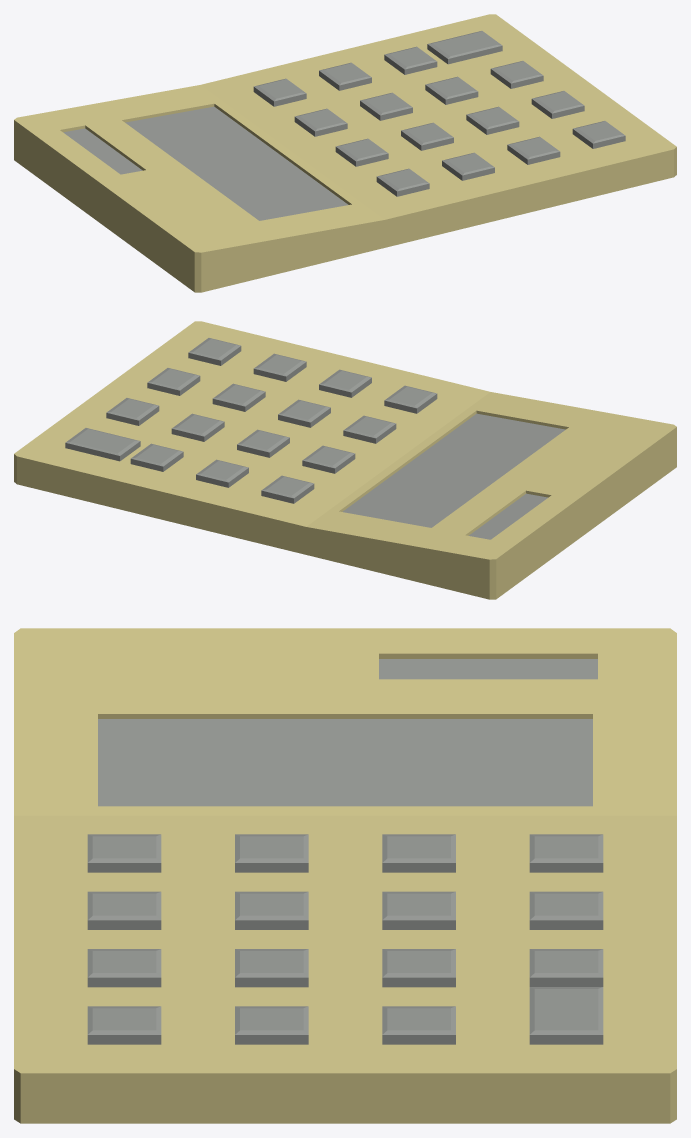
The model's file is calcu_ud.fbx.
The picture shows the model from 3 angles, top to bottom: view 1: azimuth 30°, elevation 25°; view 2: azimuth 150°, elevation 25°; view 3: azimuth 270°, elevation 25°; orthographic projection. The views are drawn at different scales.
Visible parts, largest first — view 1: Cube; view 2: Cube; view 3: Cube.
Boxes of the visible parts, x1,y1,x2,y2 form: Cube: (14,14,676,292); Cube: (14,321,676,599); Cube: (14,628,676,1123).
Bounding box in the file's own units: 152 × 12.15 × 101.
